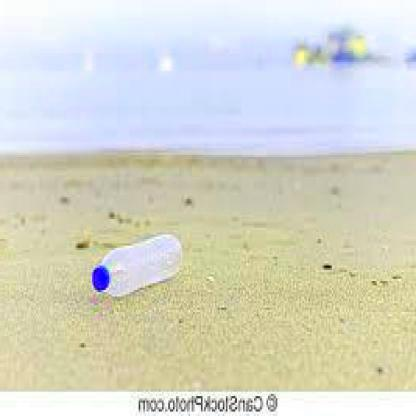Plastic: (87, 228, 187, 298)
